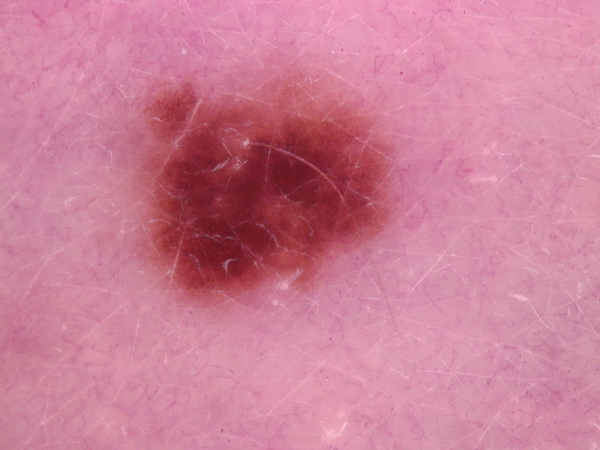Detected Lesion: (136, 69, 403, 309)
